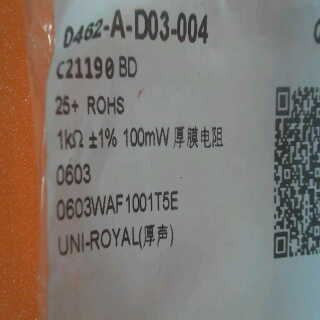1kR: (55, 126, 86, 152)
